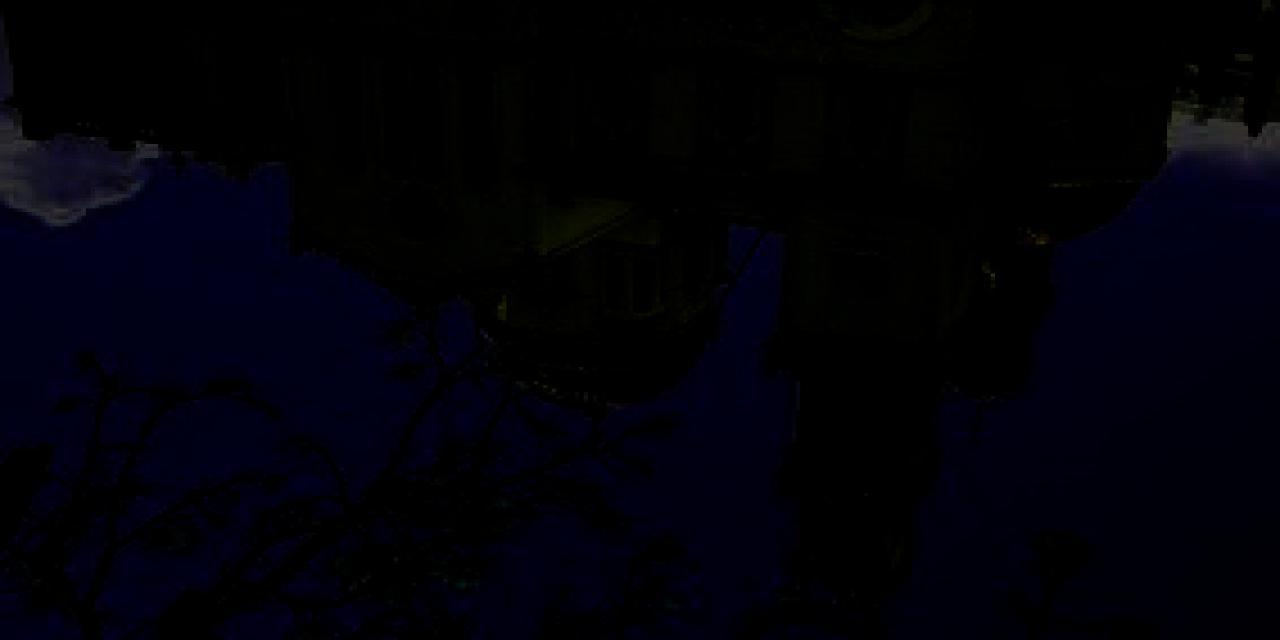Agios Minas: (1, 1, 1187, 640)
